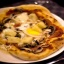pizza: (1, 6, 60, 62)
